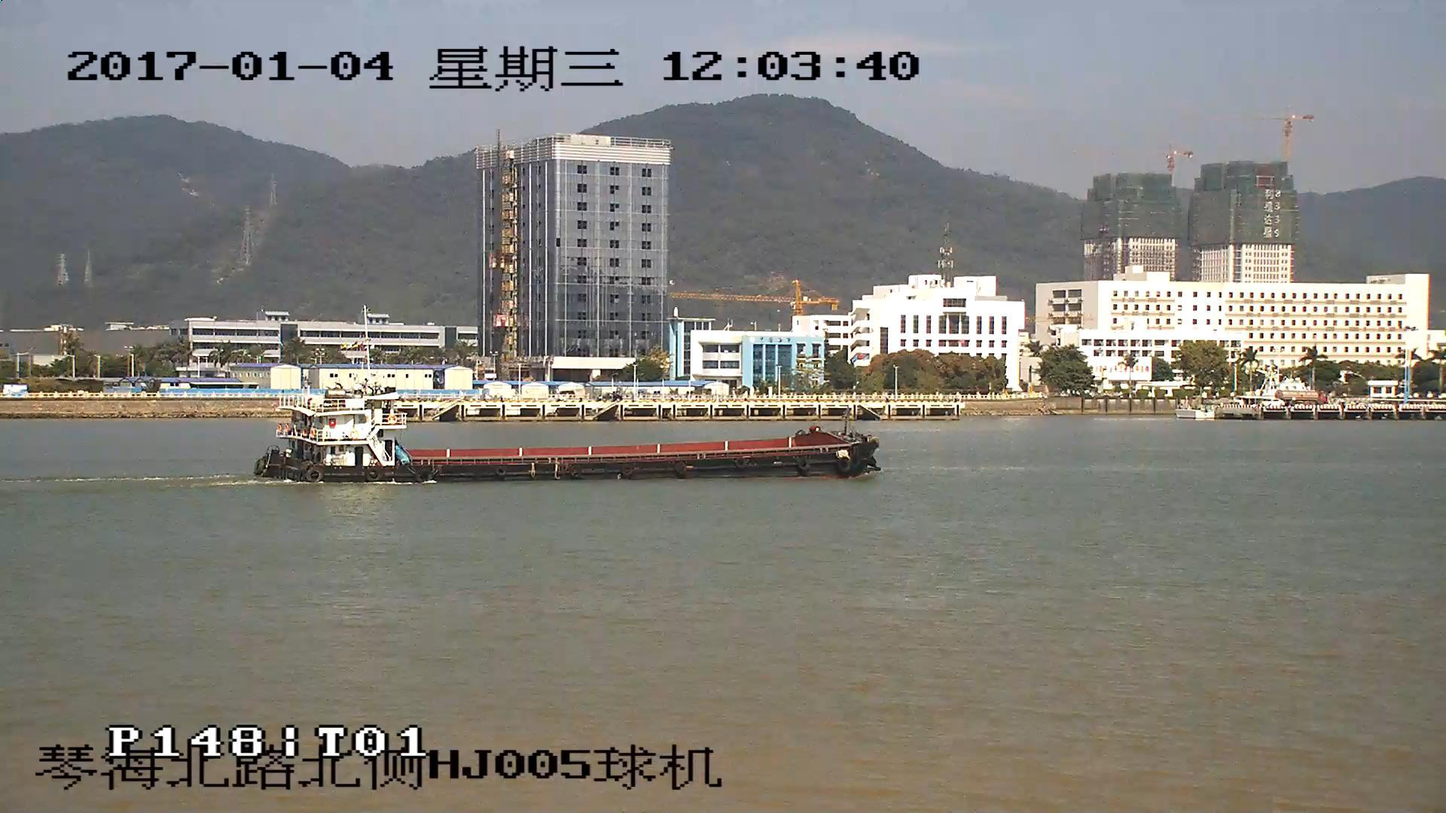general cargo ship: (254, 395, 882, 484)
